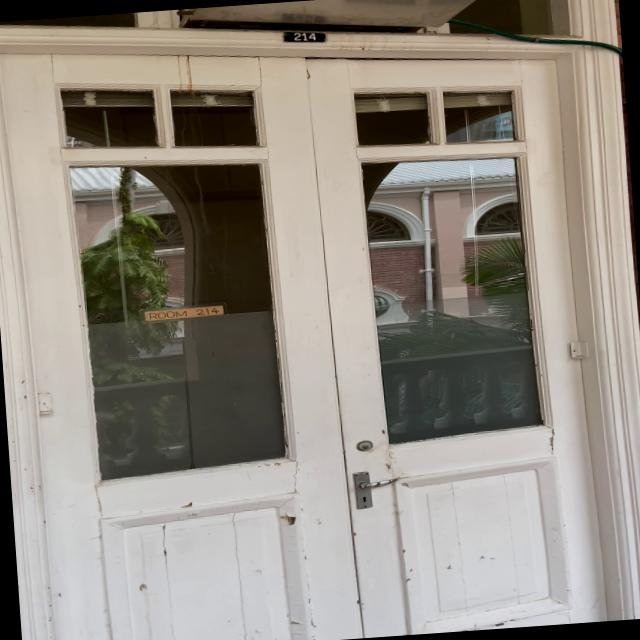room214: (272, 26, 332, 46)
room214Window: (133, 298, 230, 325)
